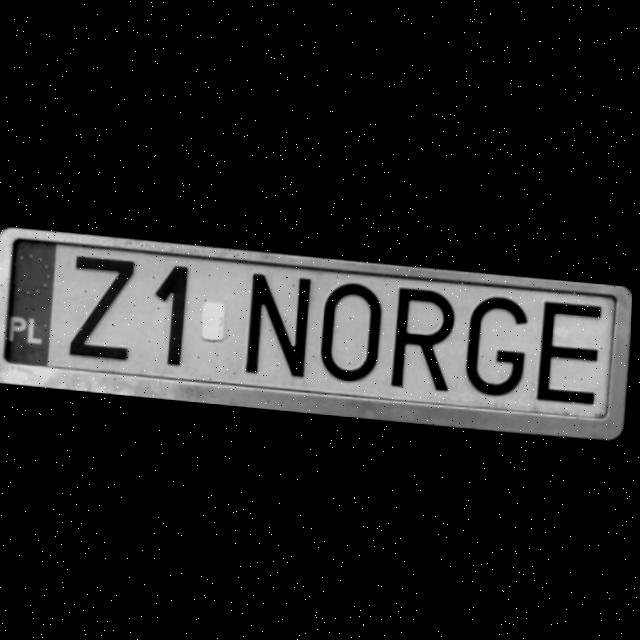license-plates: (4, 242, 618, 422)
